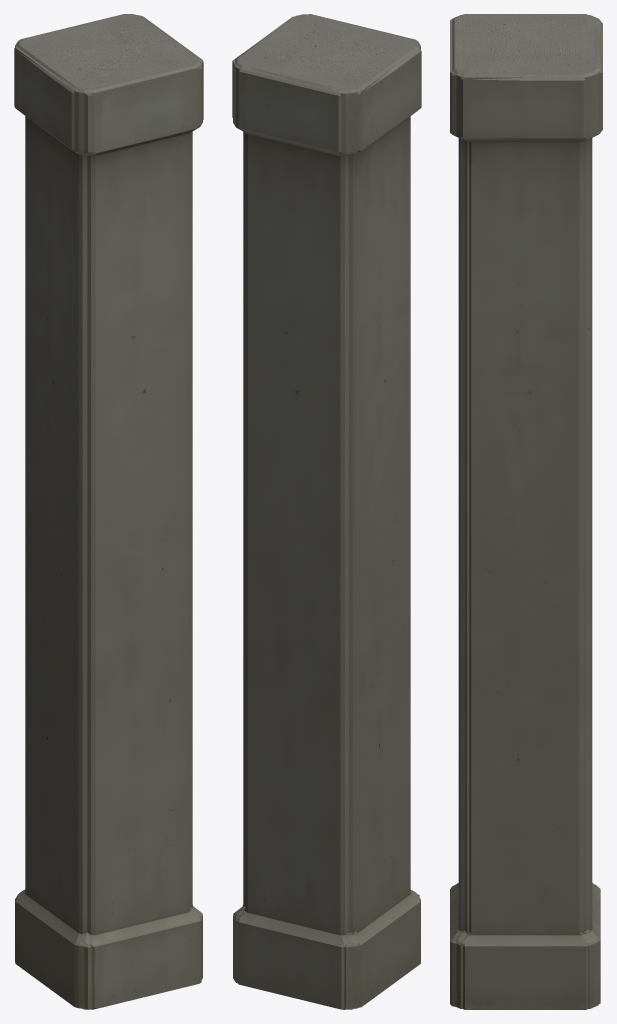
File: column1.glb
3 views of the same model, side by side, from view 1: azimuth 30°, elevation 25°; view 2: azimuth 150°, elevation 25°; view 3: azimuth 270°, elevation 25° (orthographic).
Size of the model in its own units: 0.2857 by 1.91 by 0.2818.
Materials: 1 (1 with a texture image).
